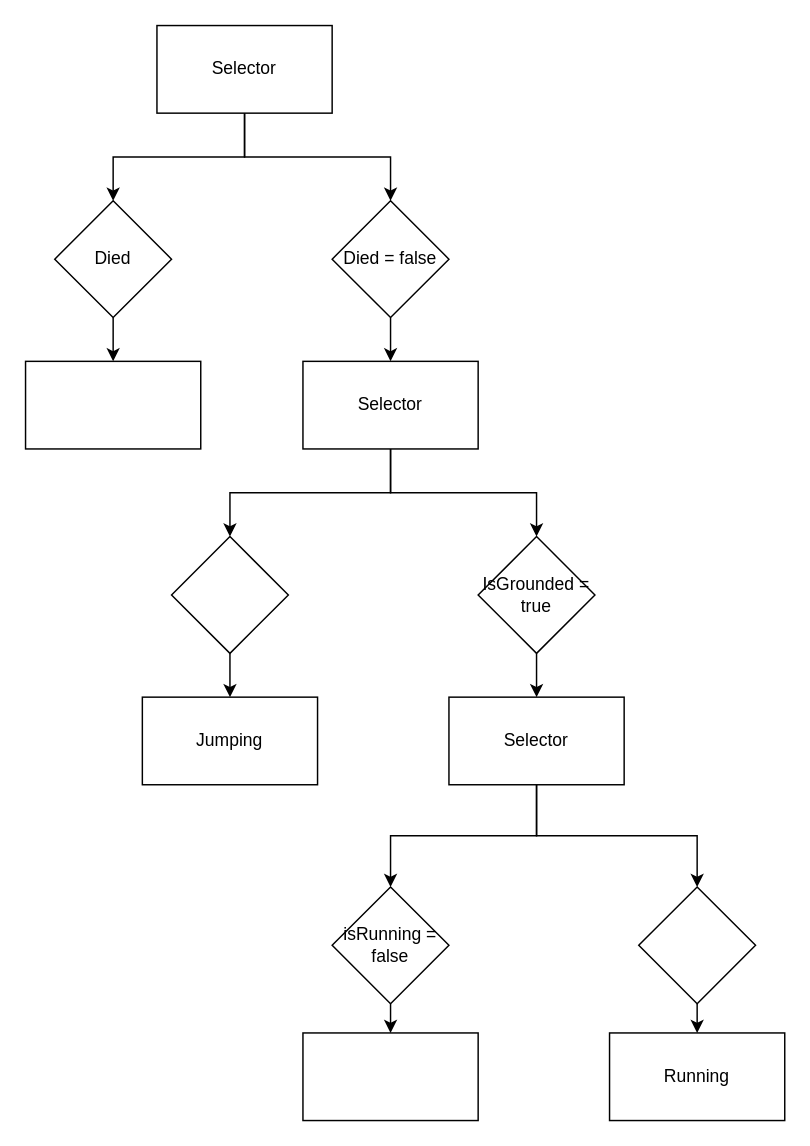
Some shapes in this 810 by 1146 pixel diagram are drawn without their labels. The shapes that lost their labels are listed below. From the top down, each one's centre as x and y in pixels, then its label:
At (112,404): "Play deid anim".
At (229,594): "IsGrounded = false".
At (696,944): "isRunning = true".
At (389,1076): "Idle".
